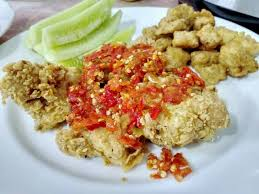ayam_geprek: (16, 56, 239, 167)
